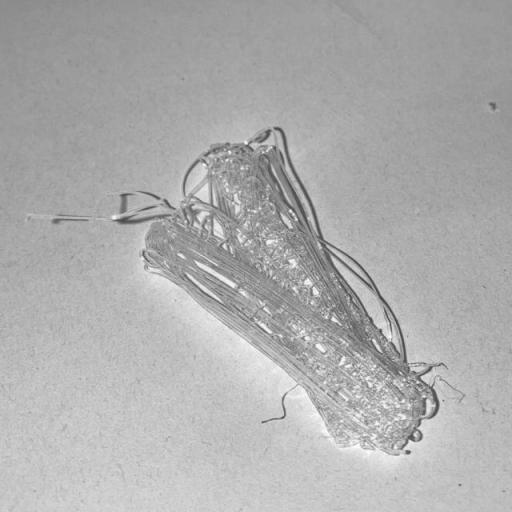spaghetti_and_stringing: (127, 102, 460, 473)
